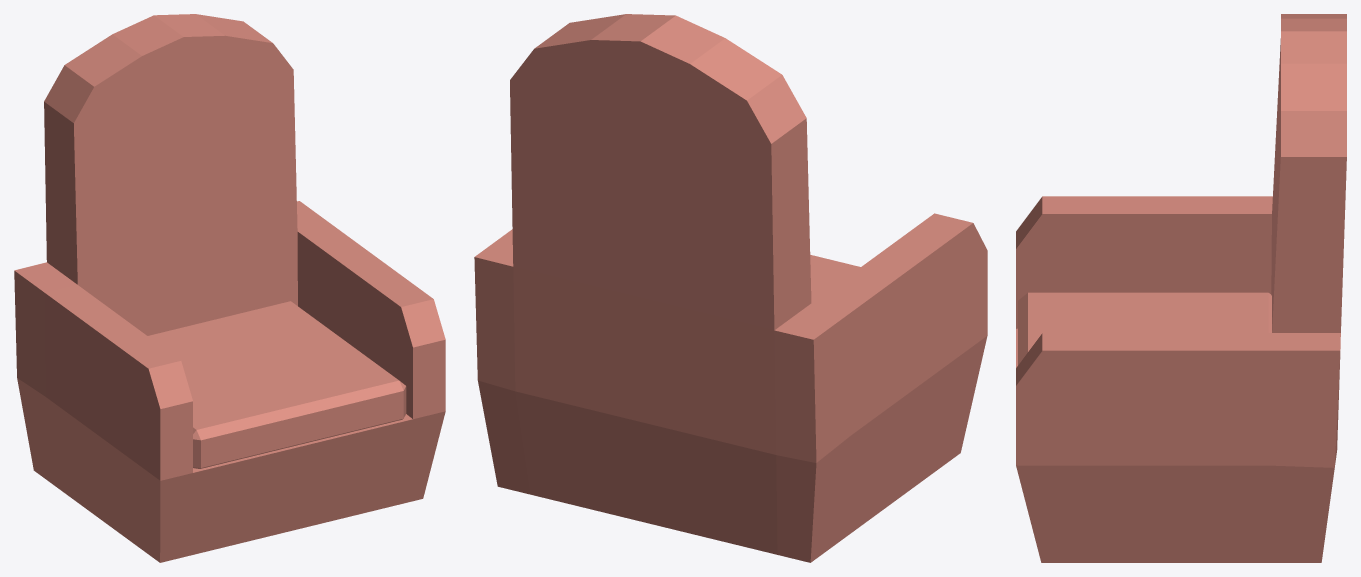
File: Armchair.fbx
The picture shows the model from 3 angles, left to right: view 1: azimuth 30°, elevation 25°; view 2: azimuth 150°, elevation 25°; view 3: azimuth 270°, elevation 25°; orthographic projection. The views are drawn at different scales.
Visible parts, largest first — view 1: Armchair; view 2: Armchair; view 3: Armchair.
Boxes of the visible parts, <box> form: Armchair: <box>14,14,445,562</box>; Armchair: <box>474,14,987,562</box>; Armchair: <box>1016,14,1346,562</box>.
Bounding box in the file's own units: 0.9874 × 1.37 × 0.8938.
